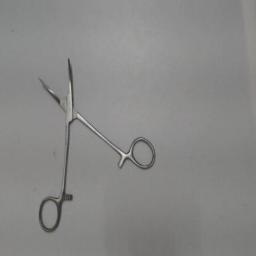Crile Artery Forceps: (33, 52, 157, 236)
